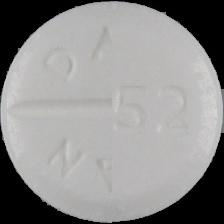0591-5052: (0, 0, 224, 224)
